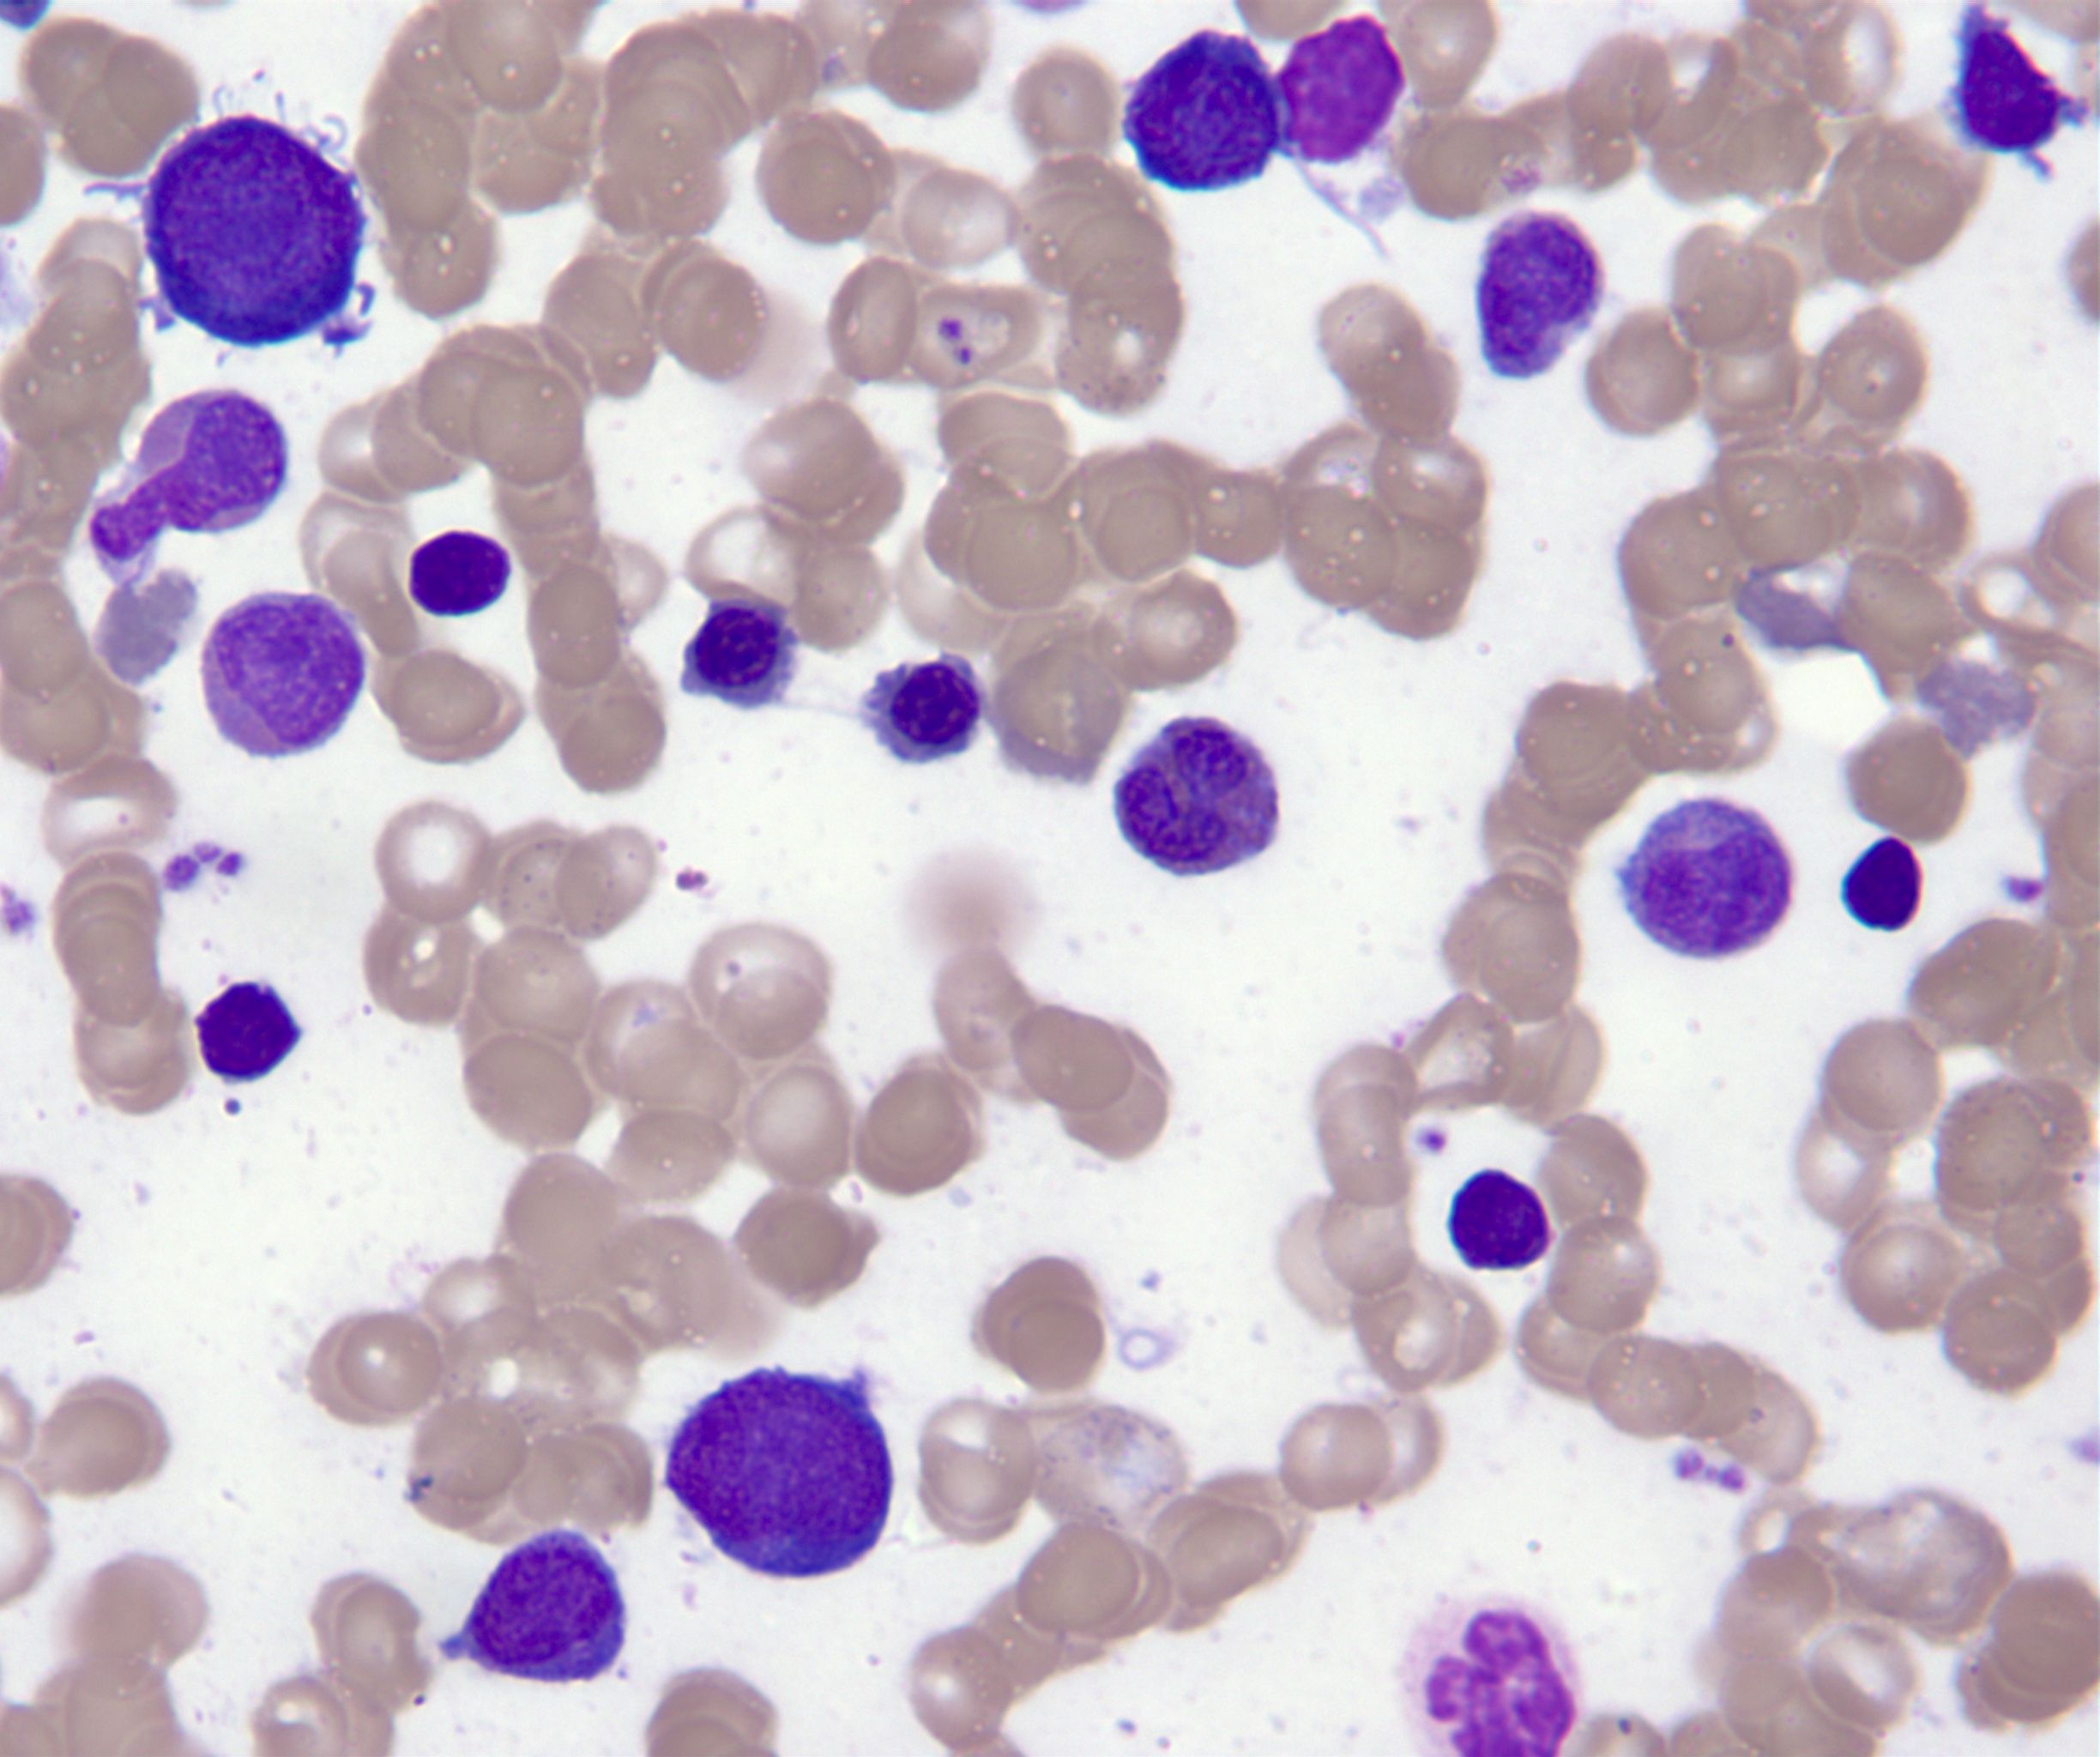2: (661, 1359, 897, 1583)
22: (140, 112, 368, 352)
23: (1116, 19, 1277, 199)
24: (853, 649, 994, 768), (677, 595, 808, 715)
3: (436, 1521, 630, 1694)
32: (1943, 0, 2069, 161), (183, 977, 307, 1090), (1441, 1164, 1565, 1277), (1831, 827, 1931, 942)
4: (92, 382, 290, 569), (195, 585, 377, 764), (1613, 792, 1798, 967), (1469, 202, 1612, 382)
E4: (1106, 712, 1285, 883)
x: (1278, 10, 1413, 166)
